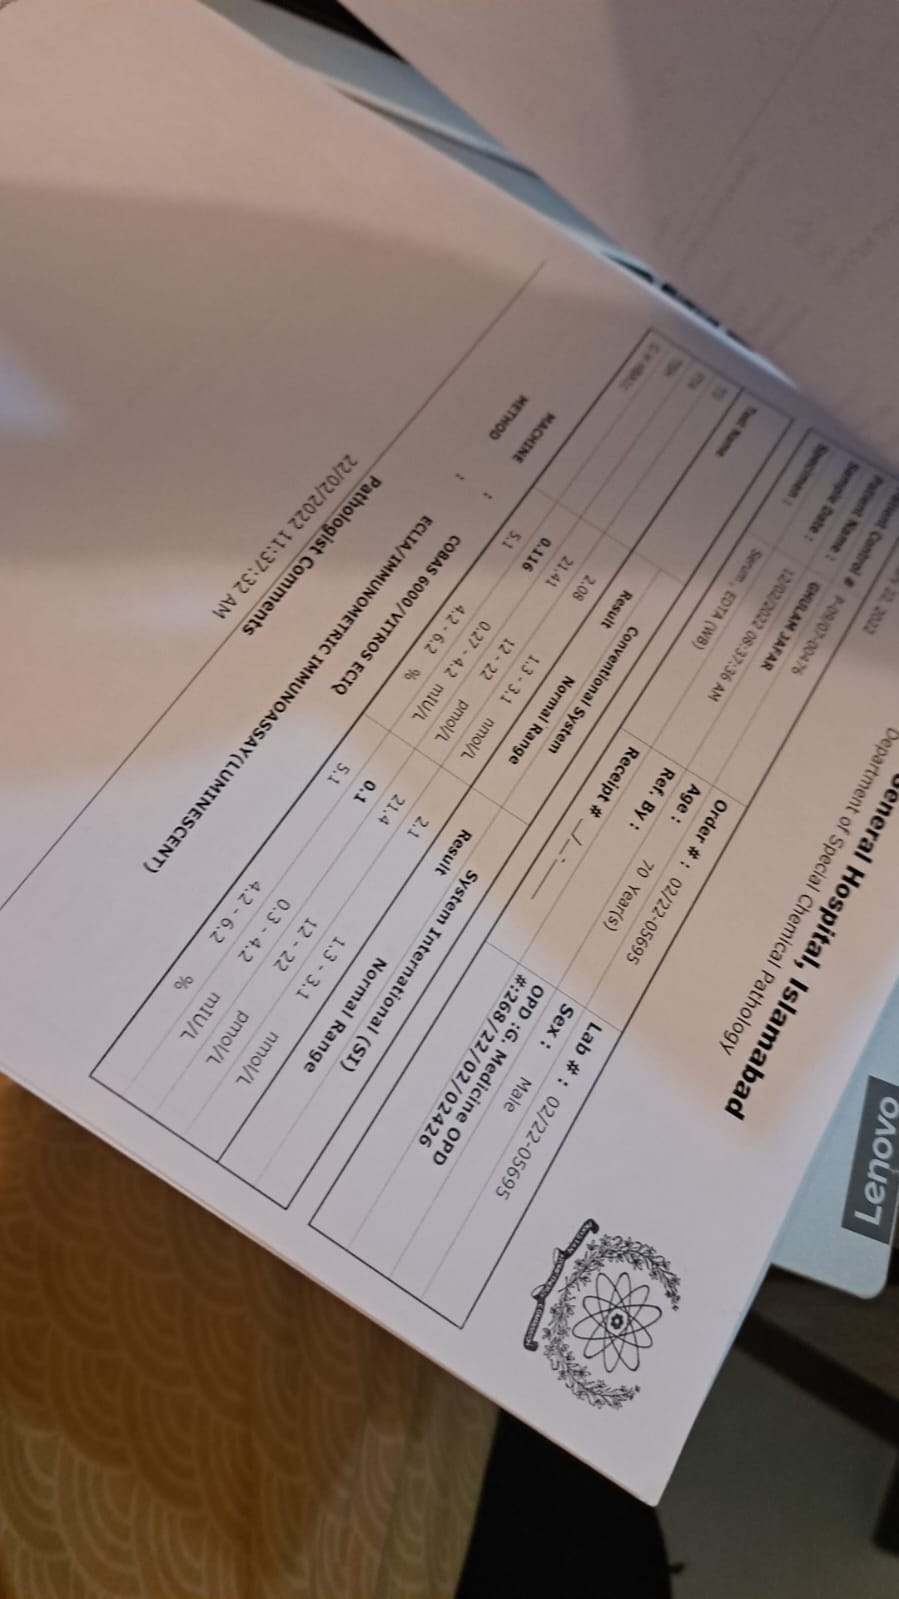report: (87, 324, 798, 1210)
